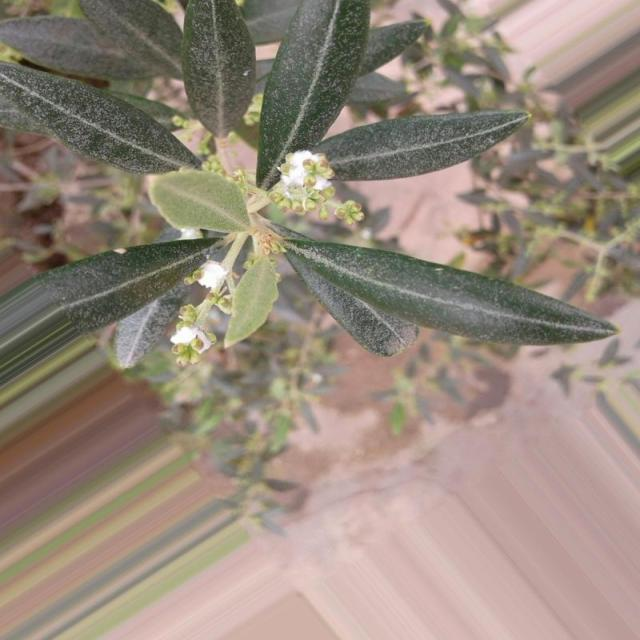Psyllid: (273, 150, 334, 201), (170, 304, 216, 366), (185, 260, 230, 298)
